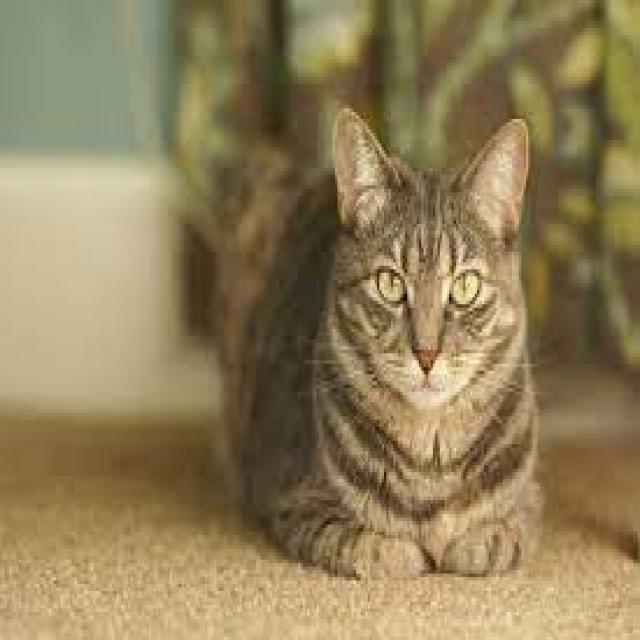Cat: (218, 101, 552, 591)
